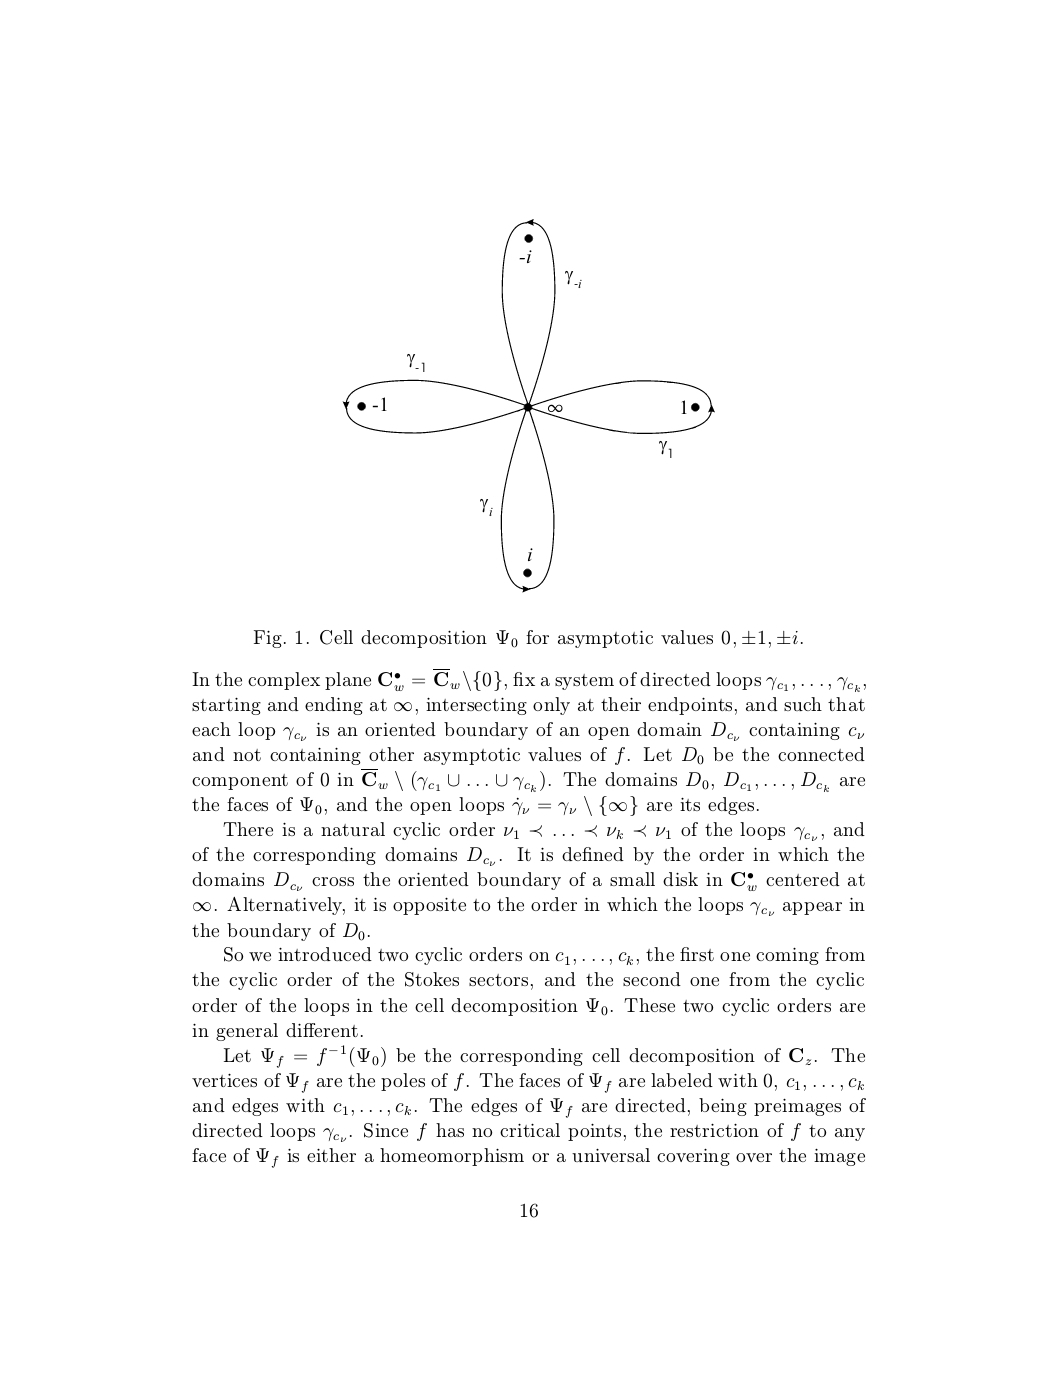figure: (342, 218, 714, 593)
